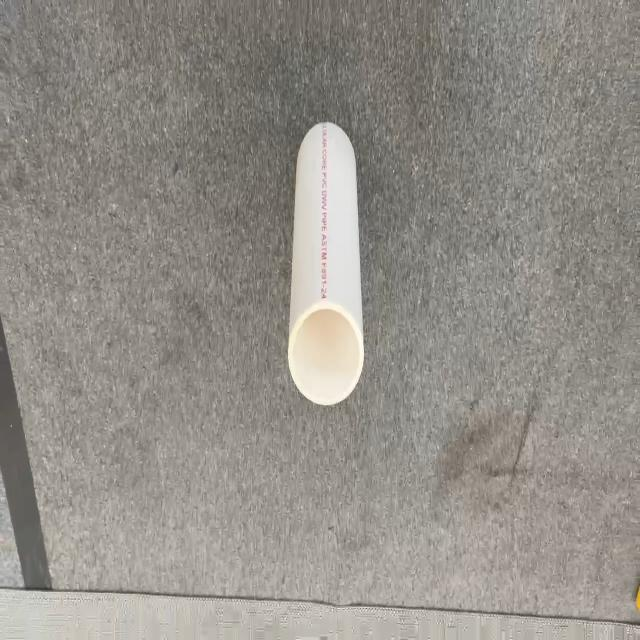coral: (287, 119, 365, 406)
